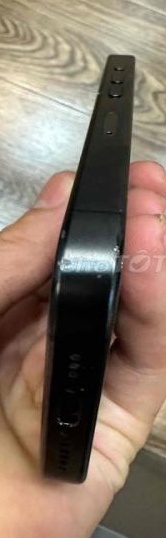scratch: (111, 242, 124, 269), (56, 256, 73, 268), (59, 228, 67, 240), (117, 207, 123, 212), (97, 272, 102, 277)
